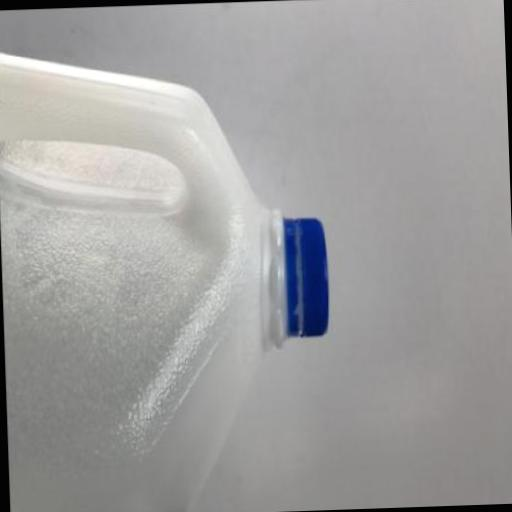plastic: (0, 35, 335, 512), (281, 210, 330, 340)
